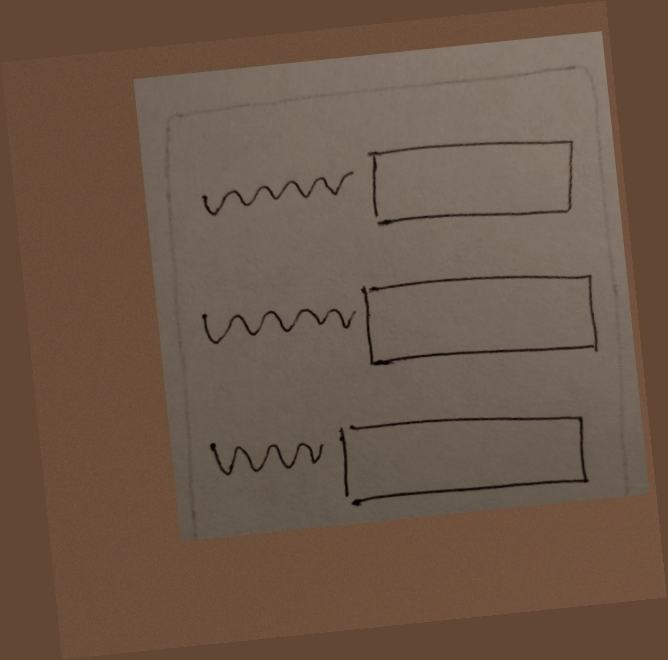text: (192, 288, 362, 356), (190, 157, 358, 216), (204, 424, 333, 489)
text_input: (334, 393, 598, 514), (359, 254, 605, 381), (360, 121, 588, 239)
